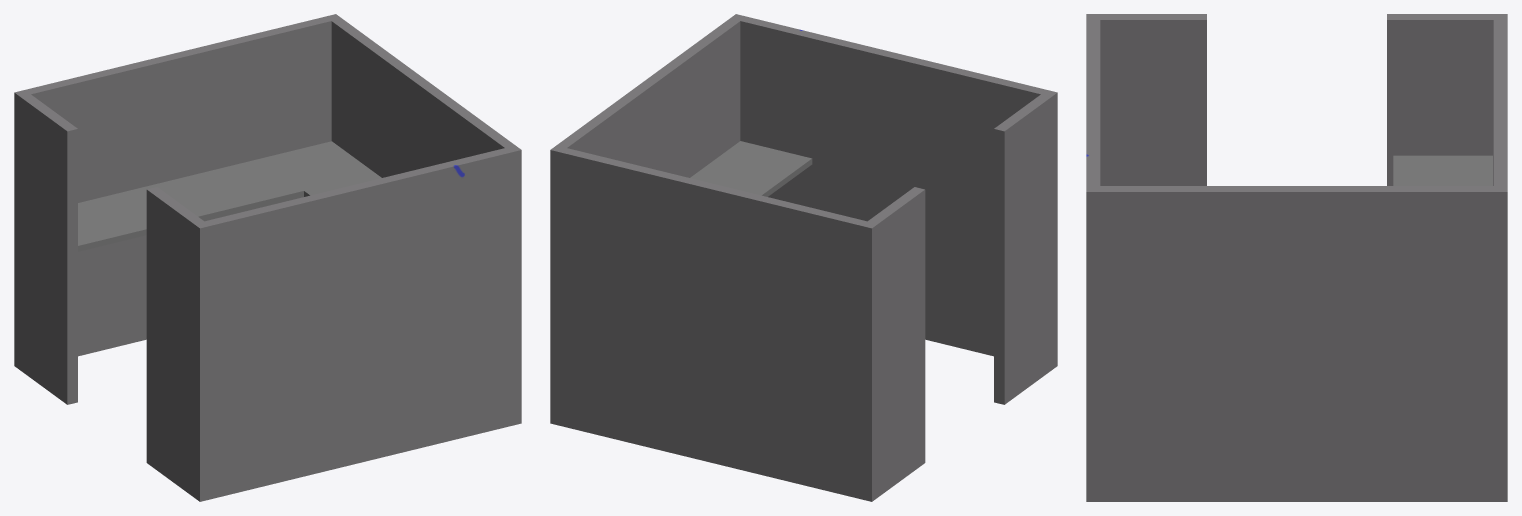
Rendered from Cubicles.fbx.
3 views of the same model, side by side, from view 1: azimuth 30°, elevation 25°; view 2: azimuth 150°, elevation 25°; view 3: azimuth 270°, elevation 25° (orthographic). The views are drawn at different scales.
Visible parts, largest first — view 1: node_id7 (×2); view 2: node_id7 (×2); view 3: node_id7 (×2).
Boxes of the visible parts, box(x1,y1,x2,y2) form: node_id7 (×2): box(14, 14, 521, 501); node_id7 (×2): box(550, 14, 1057, 501); node_id7 (×2): box(1086, 14, 1507, 501).
Size of the model in its own units: 0.4267 by 0.3467 by 0.4267.
2 materials, 1 textured.
